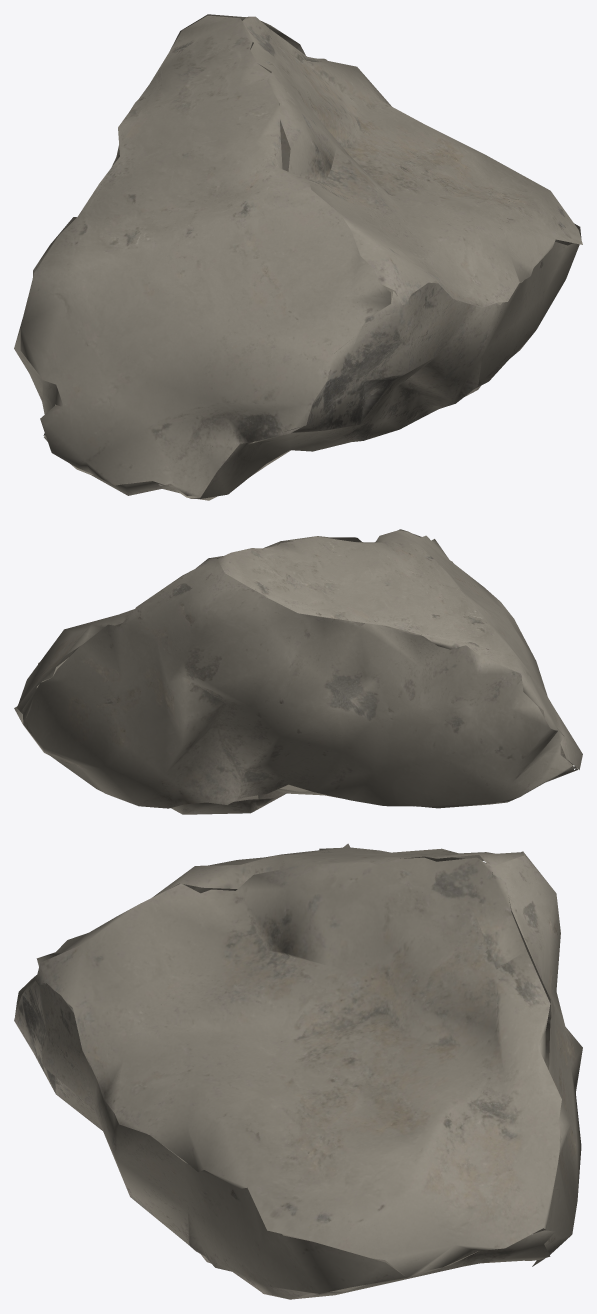
Rendered from ph-moon_rock_03.glb.
3 renders of one model, top to bottom at view 1: azimuth 30°, elevation 25°; view 2: azimuth 150°, elevation 25°; view 3: azimuth 270°, elevation 25°, orthographic. The views are drawn at different scales.
Parts seen in each view (by area): view 1: moon_rock_03; view 2: moon_rock_03; view 3: moon_rock_03.
Part boxes in pixels (<box>): moon_rock_03: <box>14,14,582,500</box>; moon_rock_03: <box>14,529,582,814</box>; moon_rock_03: <box>14,843,582,1299</box>.
Size of the model in its own units: 0.113 by 0.0584 by 0.086.
Materials: 1 (1 with a texture image).
